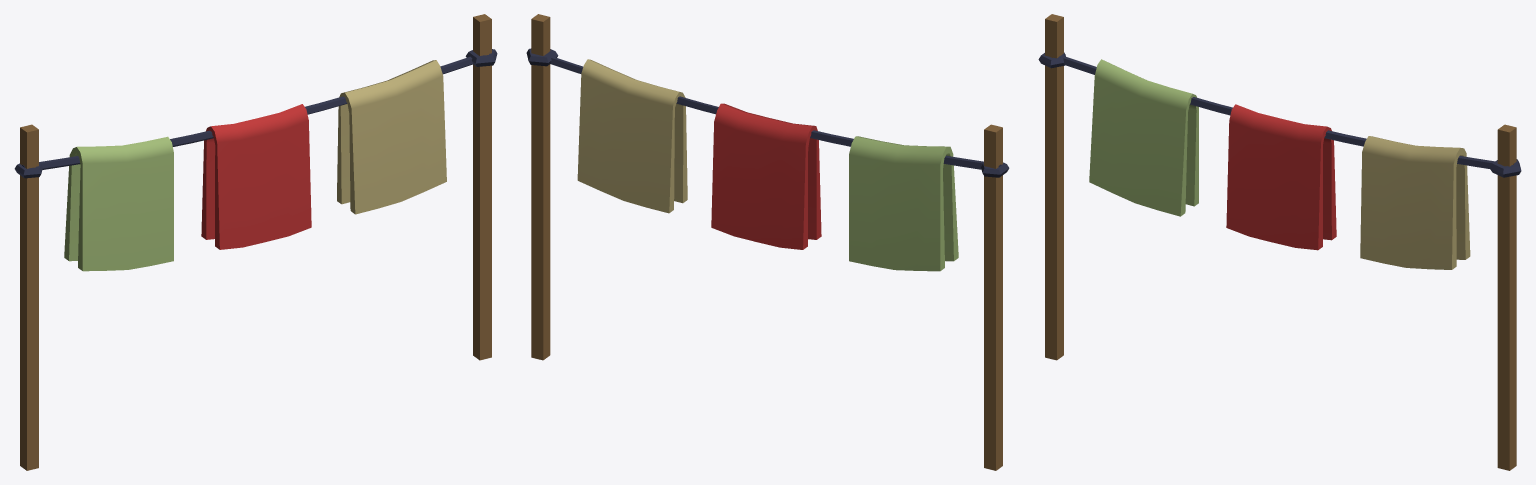
File: Environment_ClothesLine_02.fbx
3 renders of one model, left to right at view 1: azimuth 30°, elevation 25°; view 2: azimuth 150°, elevation 25°; view 3: azimuth 330°, elevation 25°, orthographic.
Parts seen in each view (by area): view 1: pCylinder4; view 2: pCylinder4; view 3: pCylinder4.
Boxes of the visible parts, x1,y1,x2,y2 form: pCylinder4: (14, 14, 497, 470); pCylinder4: (526, 14, 1009, 470); pCylinder4: (1038, 14, 1521, 470).
Size of the model in its own units: 220 by 149 by 15.36.
